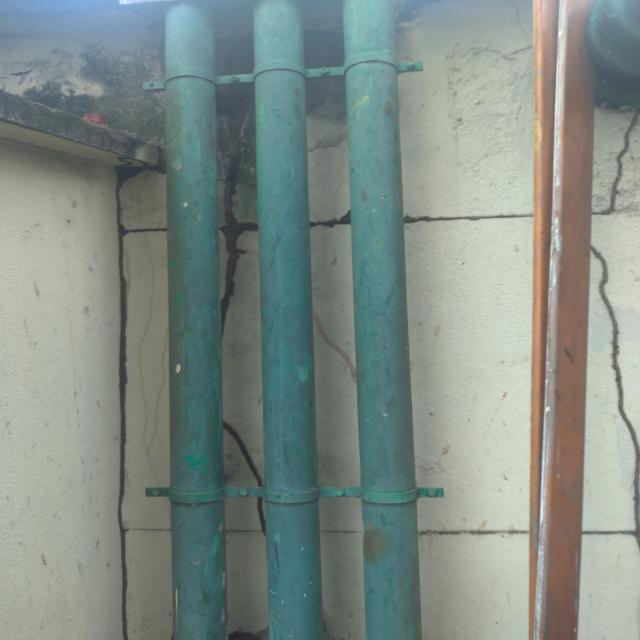gas: (344, 35, 421, 633), (254, 36, 324, 635), (164, 39, 228, 640)
